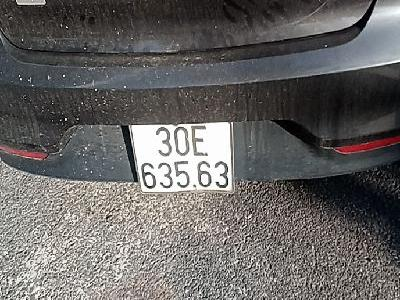lisence: (128, 120, 237, 197)
